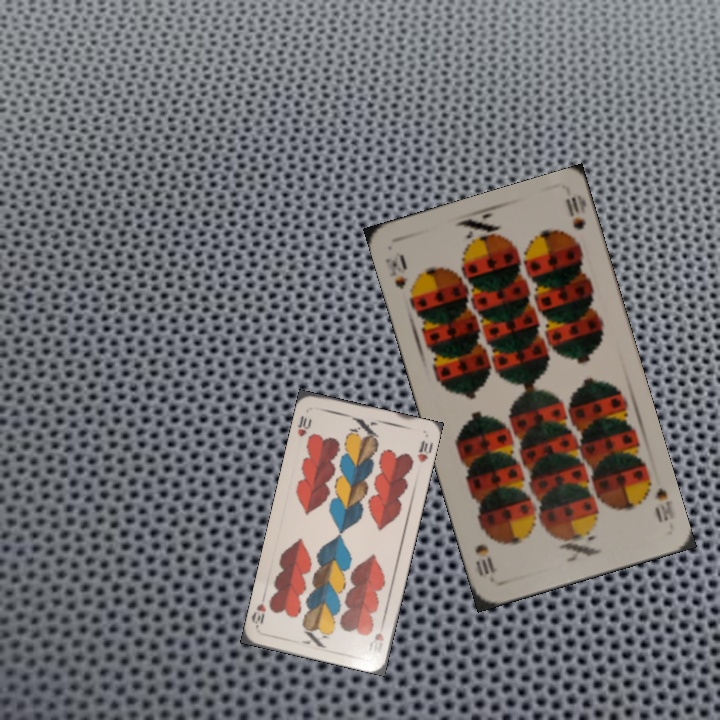H10: (368, 617, 387, 659), (293, 411, 314, 439)
S10: (640, 472, 677, 525), (381, 254, 410, 292)
